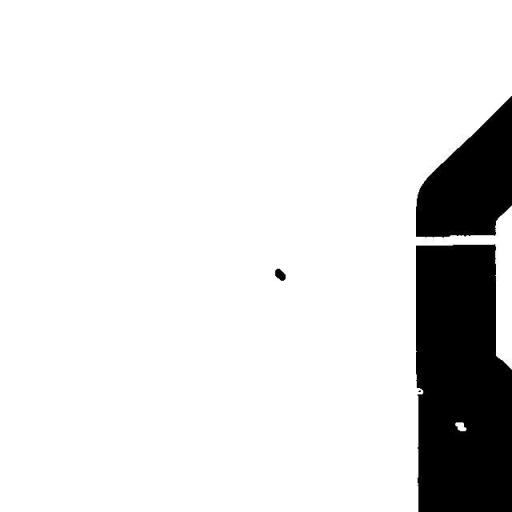copper: (267, 261, 293, 288)
mousebite: (408, 380, 430, 402)
open: (400, 227, 506, 253)
pin-hole: (447, 414, 474, 438)
